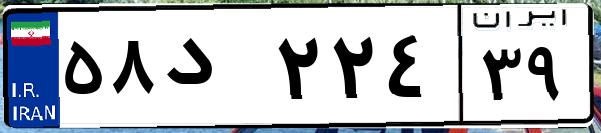2: (270, 28, 330, 110), (330, 28, 385, 110)
3: (475, 38, 525, 113)
4: (385, 28, 445, 110)
5: (57, 26, 110, 100)
8: (110, 28, 158, 98)
9: (525, 38, 570, 115)
د: (158, 20, 270, 120)
